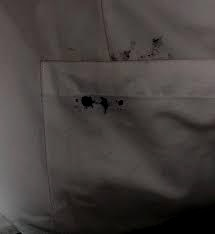ink: (117, 38, 163, 60), (75, 95, 129, 113)
